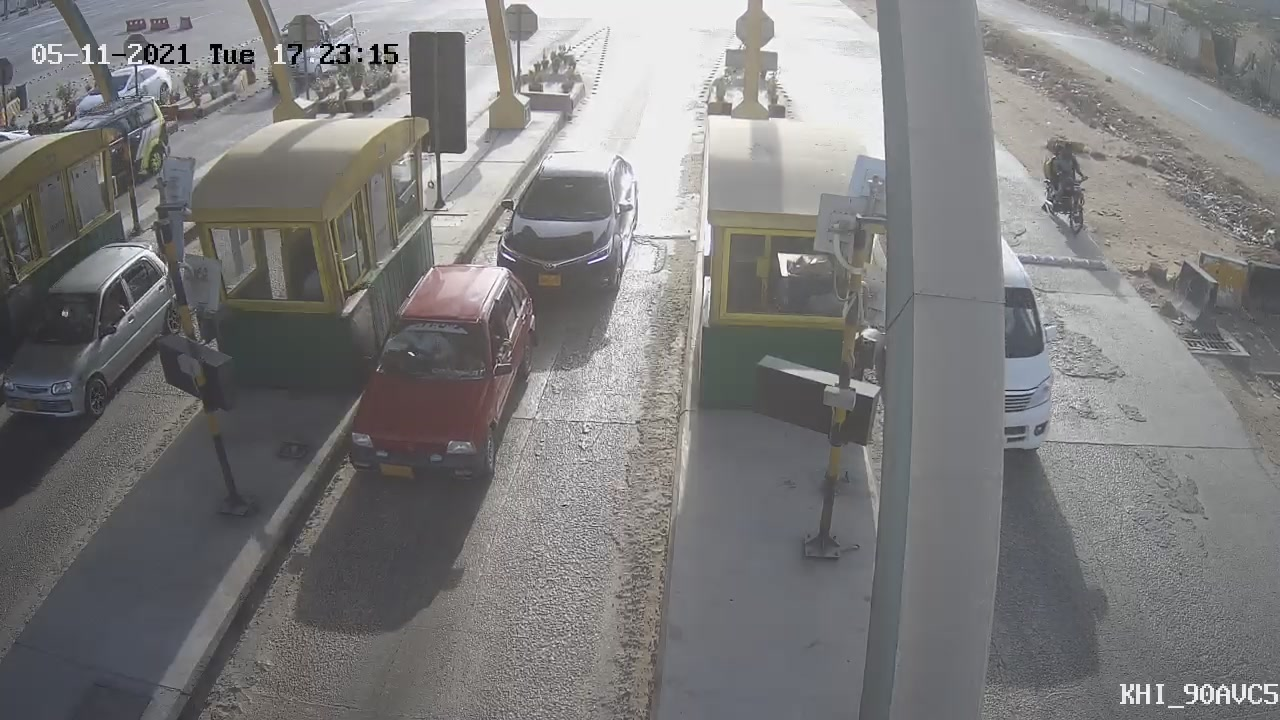F1: (325, 240, 557, 509), (485, 133, 659, 314)
